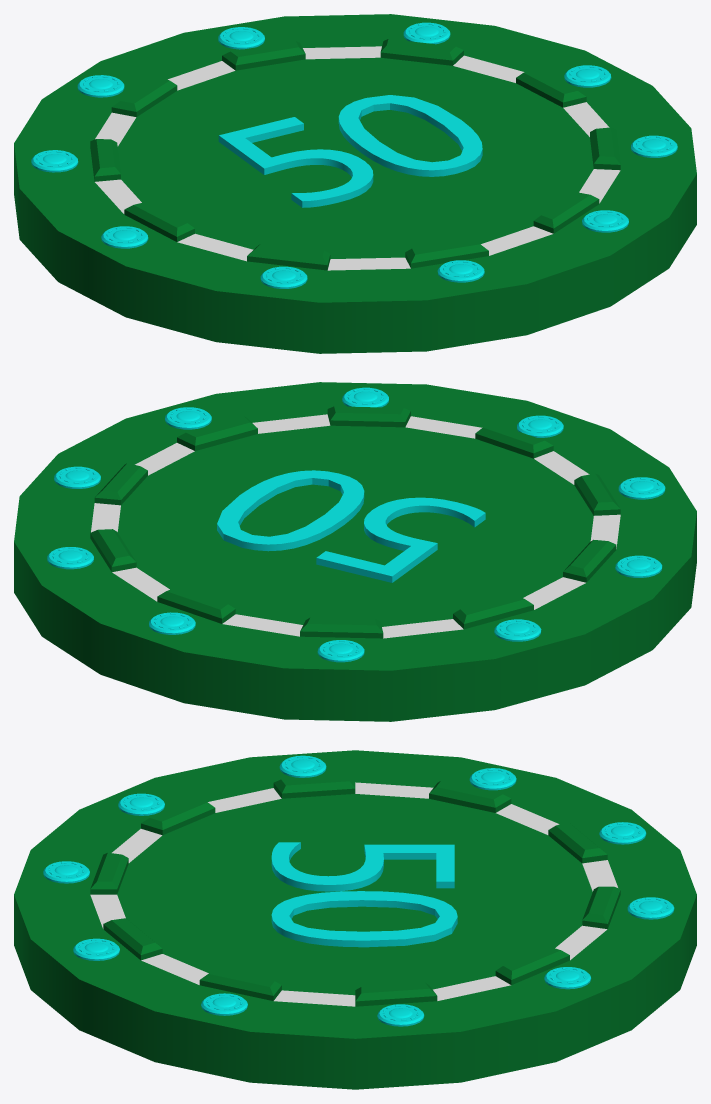
Rendered from poker50.fbx.
3 renders of one model, top to bottom at view 1: azimuth 30°, elevation 25°; view 2: azimuth 150°, elevation 25°; view 3: azimuth 270°, elevation 25°, orthographic.
Visible parts, largest first — view 1: pCylinder1, pCylinder12, polySurface12, polySurface11; view 2: pCylinder1, pCylinder12, polySurface12, polySurface11; view 3: pCylinder1, pCylinder12, polySurface12, polySurface11.
Part boxes in pixels (bbox=[...]): pCylinder1: bbox=[14, 14, 696, 353]; pCylinder12: bbox=[31, 22, 677, 288]; polySurface12: bbox=[338, 95, 482, 176]; polySurface11: bbox=[218, 117, 373, 207]; pCylinder1: bbox=[14, 382, 696, 721]; pCylinder12: bbox=[47, 387, 665, 662]; polySurface12: bbox=[217, 470, 364, 551]; polySurface11: bbox=[316, 497, 485, 582]; pCylinder1: bbox=[14, 750, 696, 1089]; pCylinder12: bbox=[43, 755, 674, 1026]; polySurface12: bbox=[271, 891, 457, 947]; polySurface11: bbox=[271, 842, 454, 891].
Size of the model in its own units: 2.1 by 0.2076 by 2.1.
